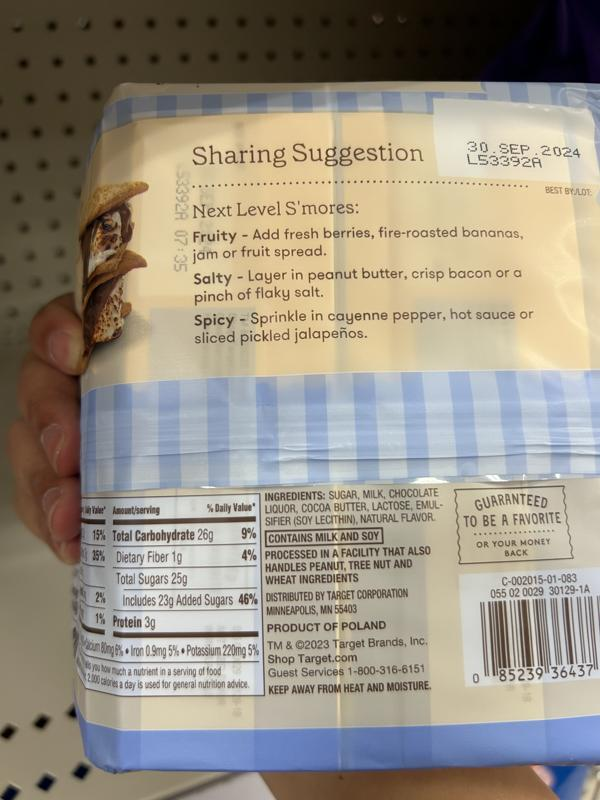ingredients: (264, 485, 443, 527)
